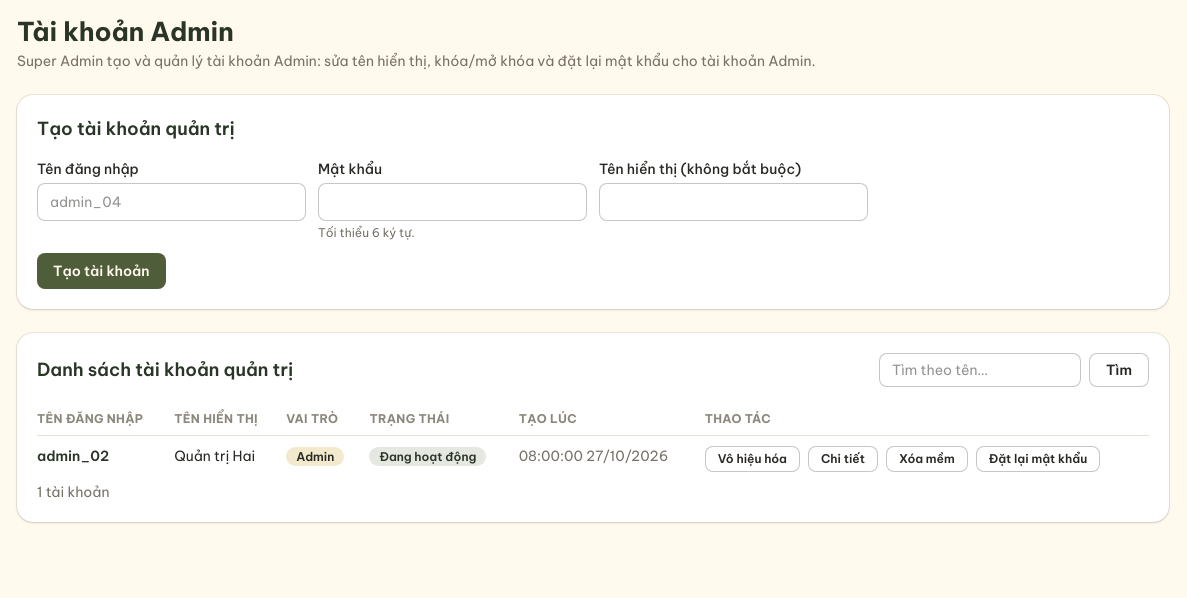
Test: AdminAccountsPage (UC10 – Super Admin quản lý tài khoản Admin) › disables an account after confirmation and reloads
Click the button "Vô hiệu hóa".
click(752, 459)  # box top-left (705, 446), bottom-right (800, 472)
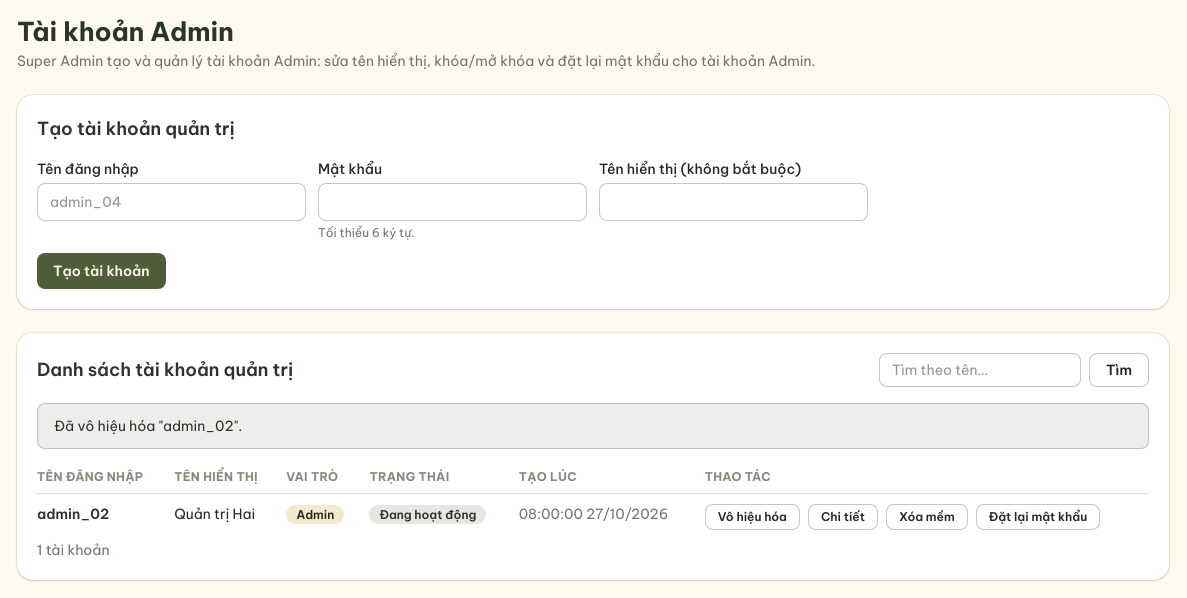
Now the text "Đã vô hiệu hóa \"admin_02\"." is shown, box top-left (54, 417), bottom-right (242, 435)
